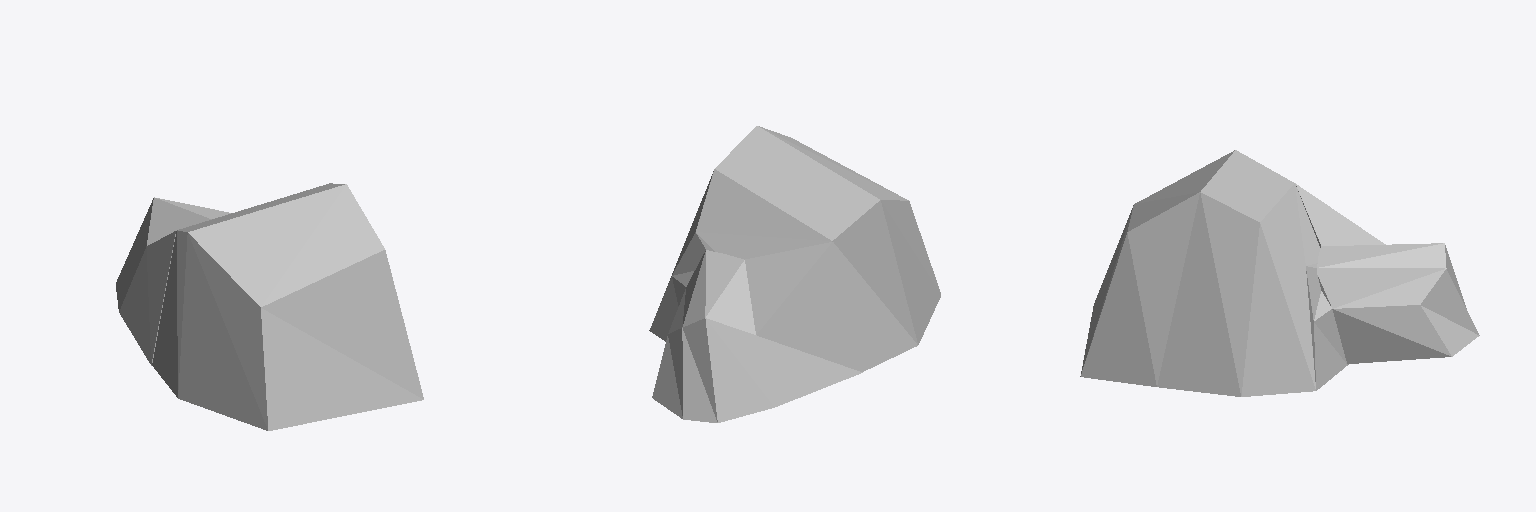
File: OreRock.obj
The picture shows the model from 3 angles: view 1: azimuth 30°, elevation 25°; view 2: azimuth 150°, elevation 25°; view 3: azimuth 270°, elevation 25°; orthographic projection.
Visible parts, largest first — view 1: Rock_1, Rock_2; view 2: Rock_1, Rock_2; view 3: Rock_1, Rock_2.
Part boxes in pixels (x1,y1,x2,y2): Rock_1: (152,183,423,430); Rock_2: (116,197,230,365); Rock_1: (649,126,940,371); Rock_2: (652,242,862,422); Rock_1: (1080,150,1348,396); Rock_2: (1295,183,1479,363).
Size of the model in its own units: 2.58 by 1.92 by 3.91.